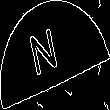N_S: (38, 25, 72, 85)
